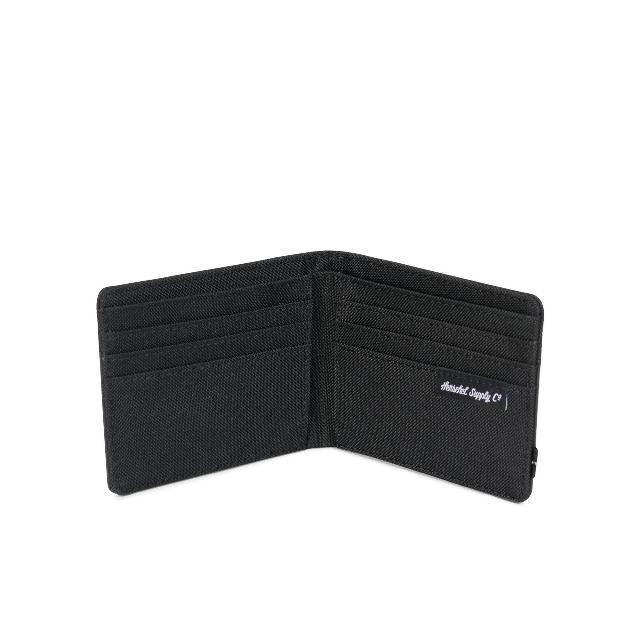wallet: (94, 246, 542, 508)
